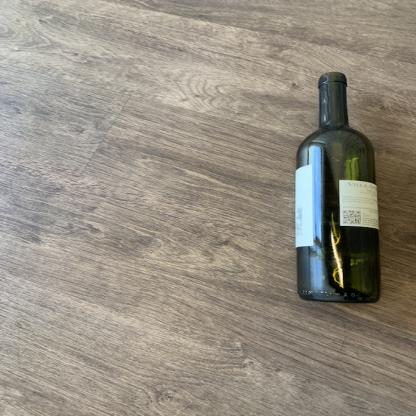trash: (292, 68, 382, 306)
